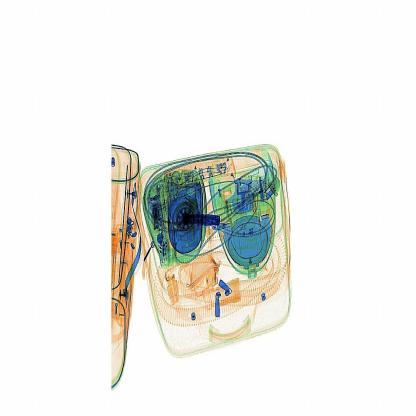knife: (177, 208, 234, 238)
